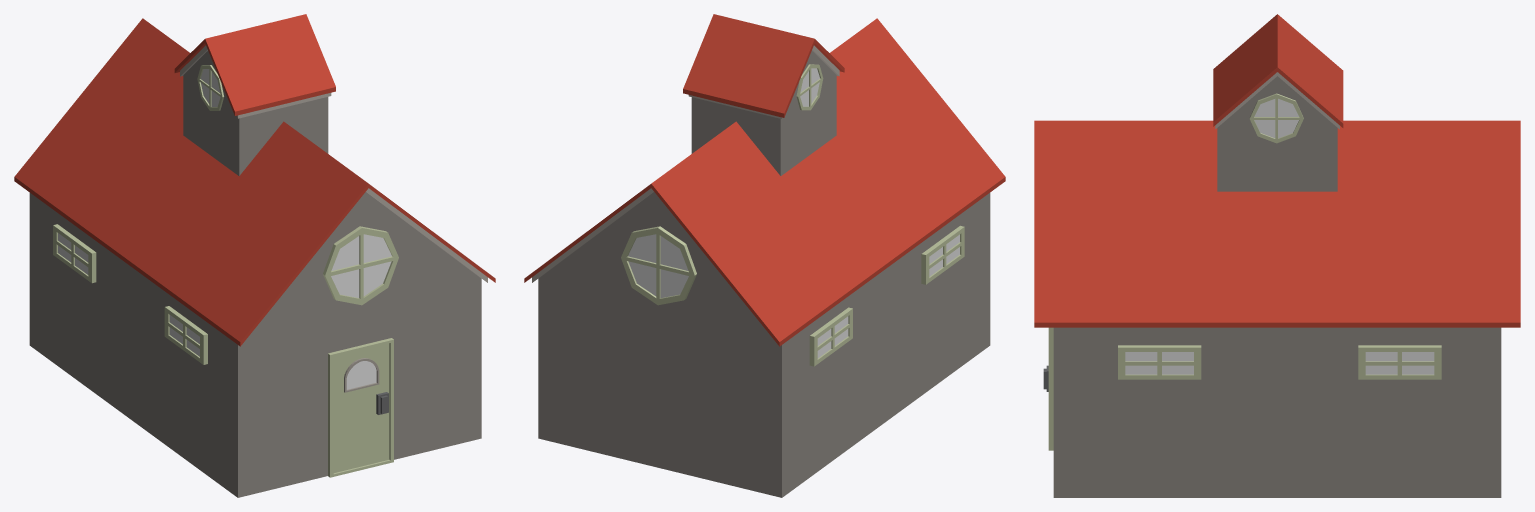
The model's file is SM_house_04_B.gltf.
3 renders of one model, left to right at view 1: azimuth 30°, elevation 25°; view 2: azimuth 150°, elevation 25°; view 3: azimuth 270°, elevation 25°, orthographic. The views are drawn at different scales.
Parts seen in each view (by area): view 1: SM_house_04_B; view 2: SM_house_04_B; view 3: SM_house_04_B.
Part boxes in pixels (bbox=[...]): SM_house_04_B: bbox=[14, 14, 495, 497]; SM_house_04_B: bbox=[524, 14, 1005, 497]; SM_house_04_B: bbox=[1034, 14, 1520, 497].
Bounding box in the file's own units: 2.19 × 3.01 × 3.37.
